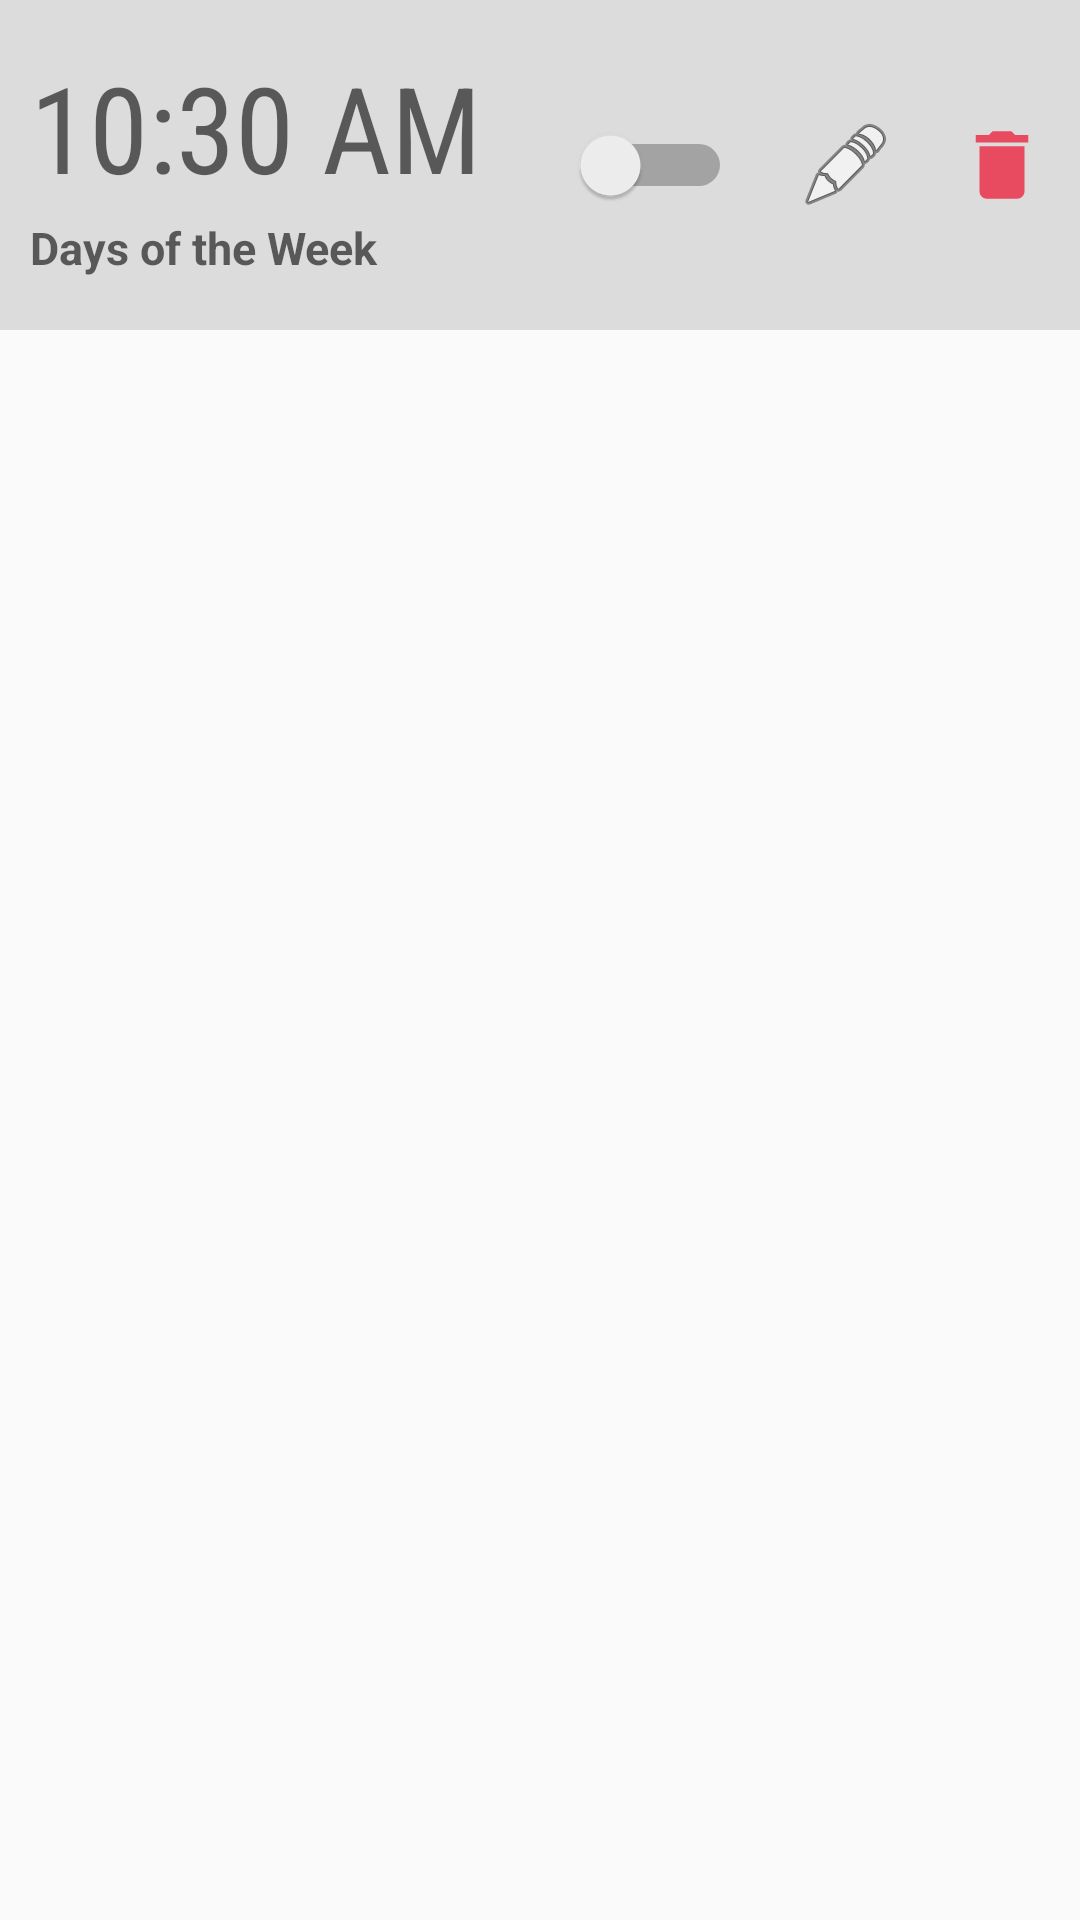

Icons on this 1080 × 1920 Android screen, each with the point to tap as (x=x, y=y):
delete: (x=1002, y=165)
edit: (x=845, y=164)
